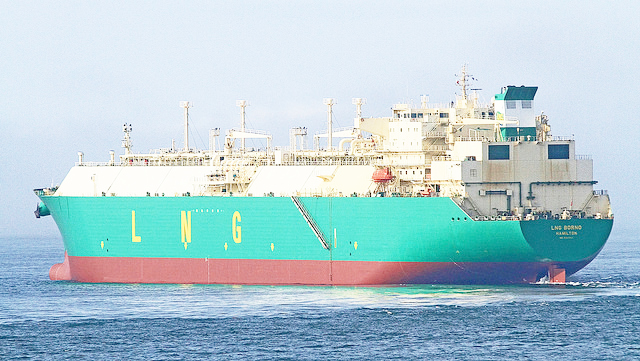LNG_ship: (33, 69, 626, 285)
